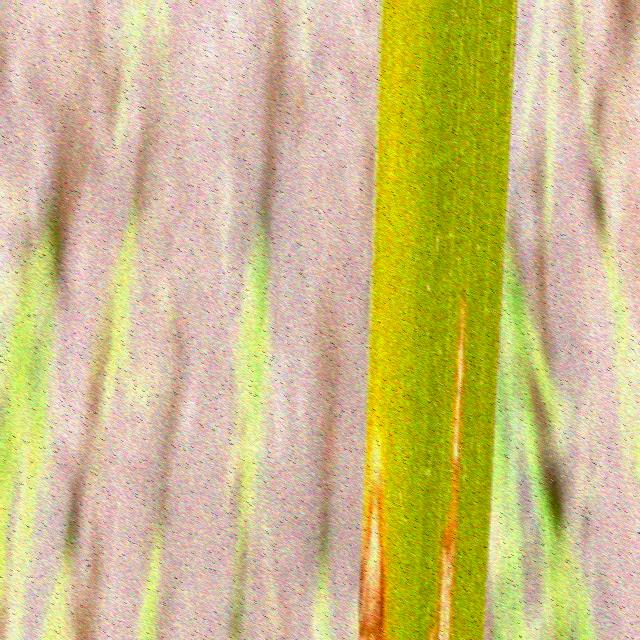BLS: (429, 294, 467, 640)
